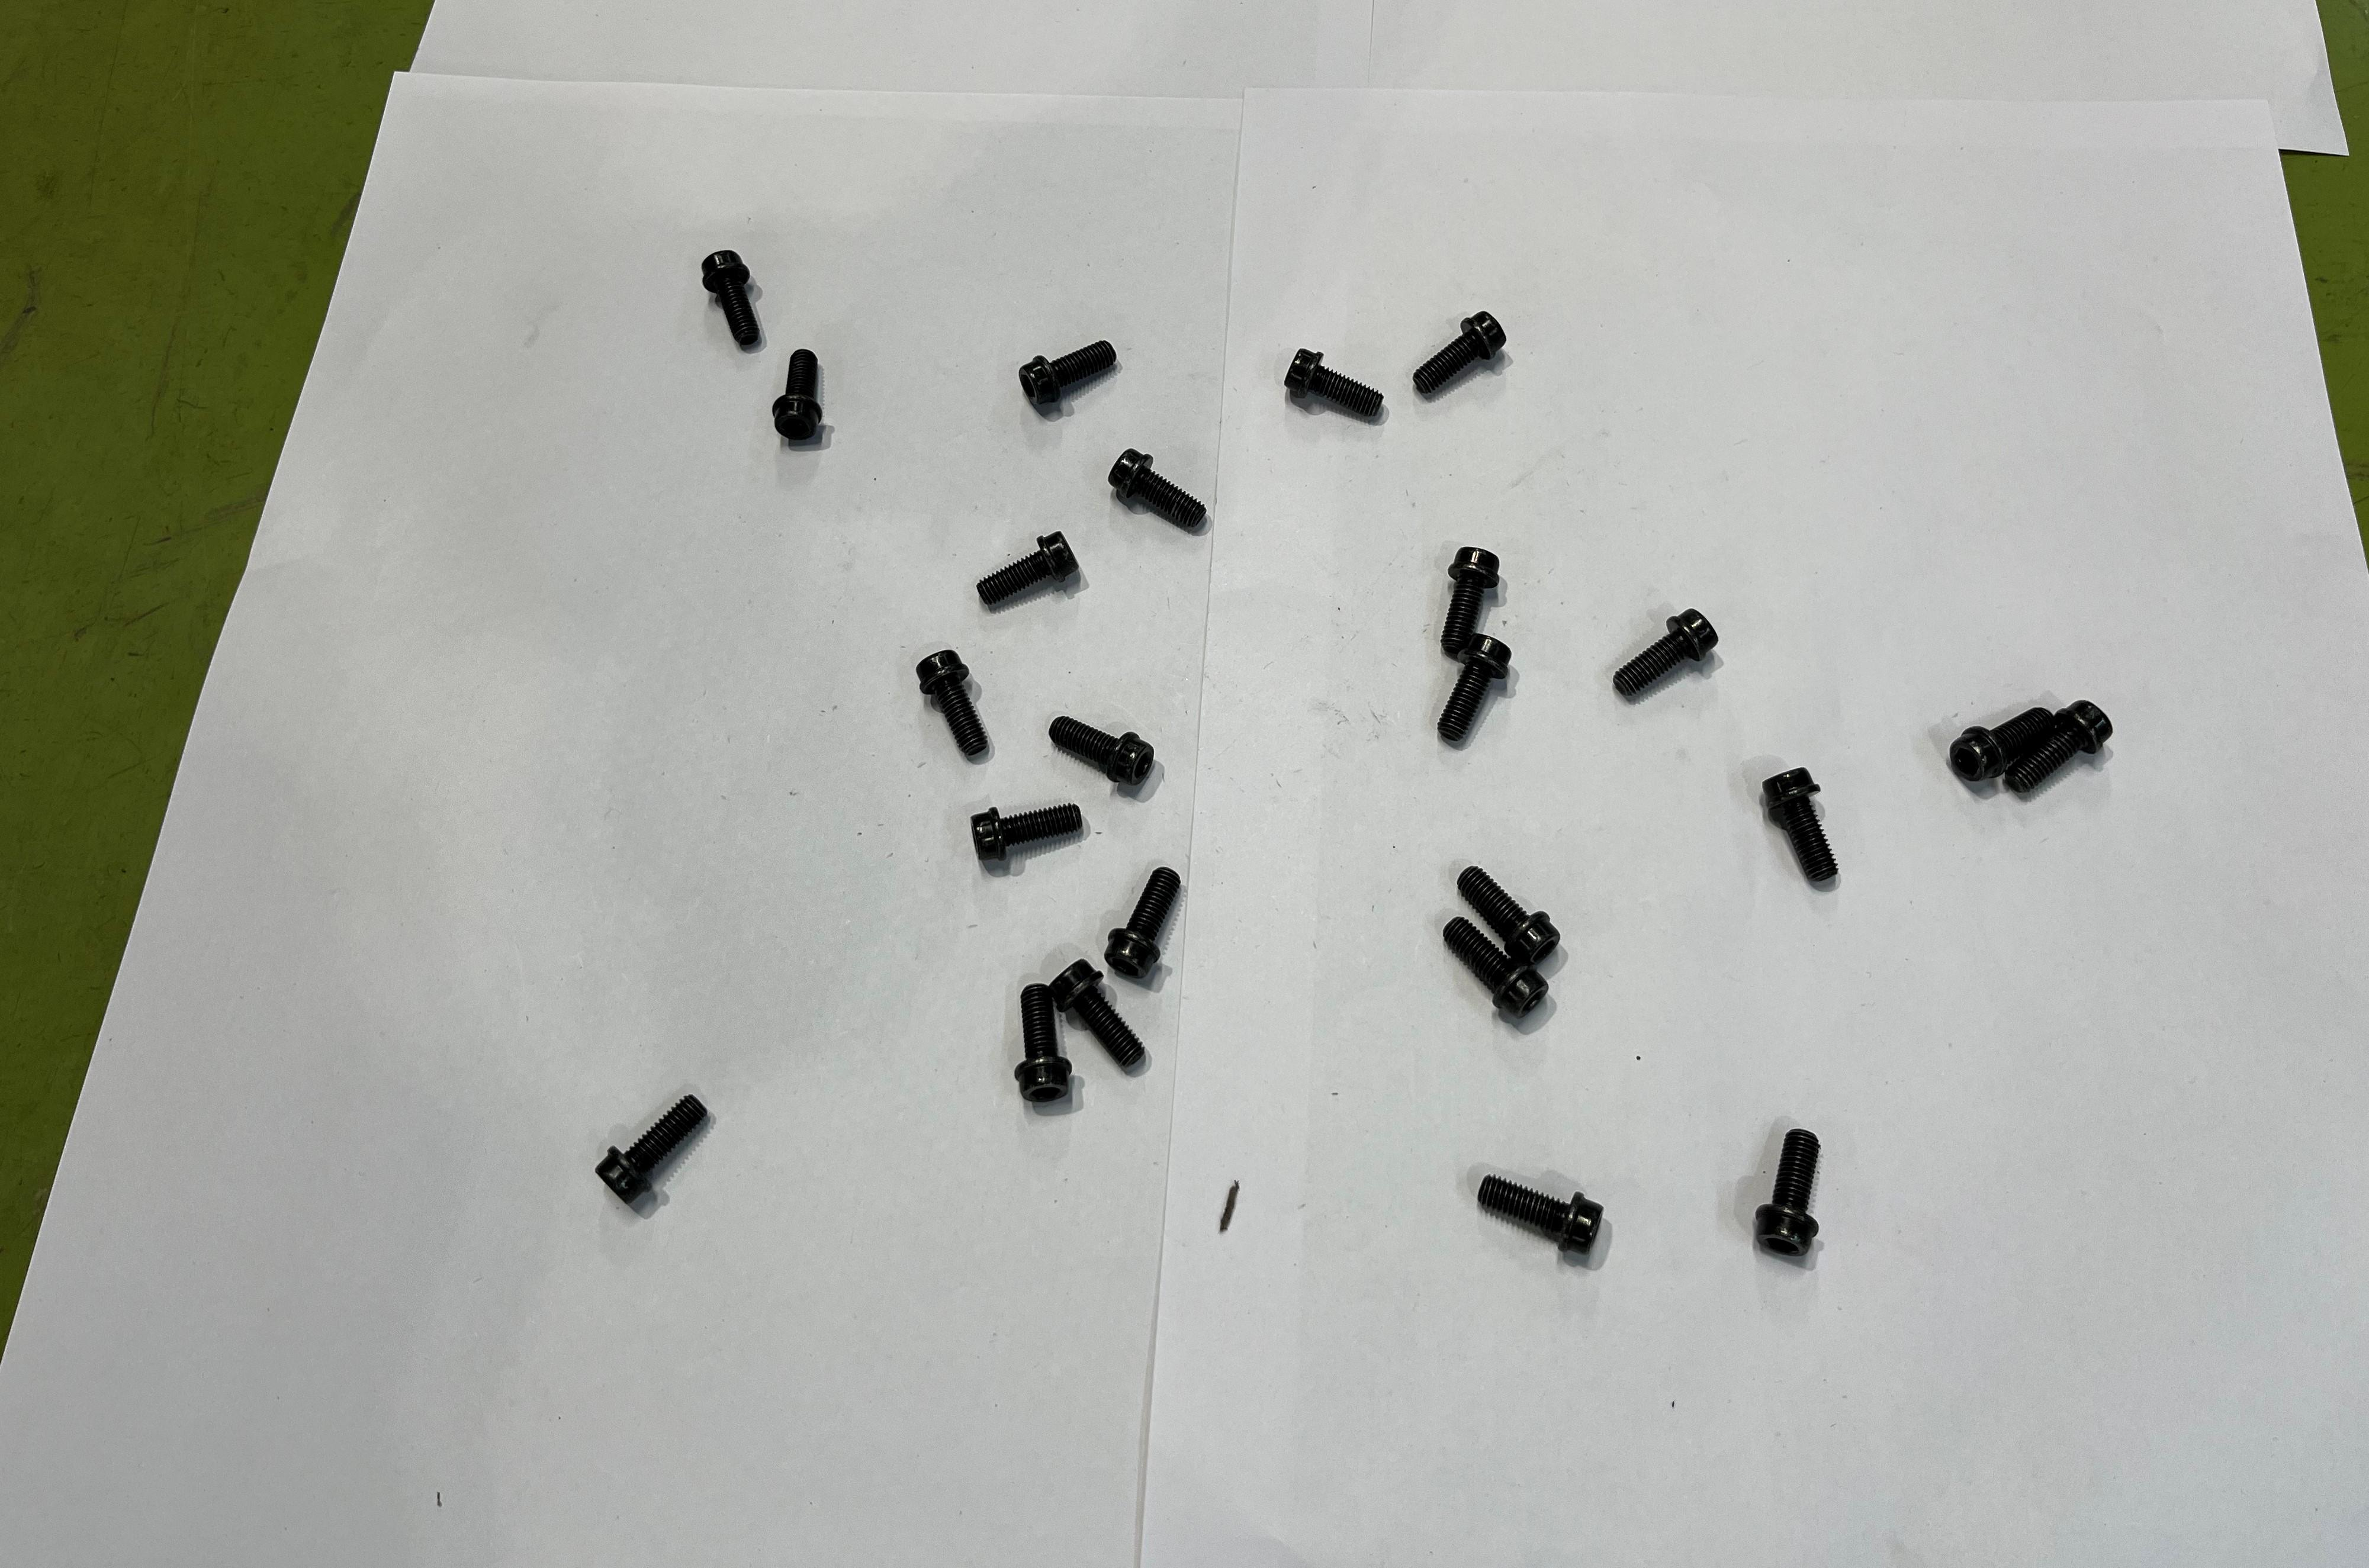Type C: (595, 1095, 709, 1223), (1048, 957, 1146, 1074), (1477, 1169, 1603, 1258), (1442, 917, 1548, 1020), (1456, 863, 1562, 964), (1003, 985, 1094, 1104), (2003, 700, 2114, 796), (1762, 759, 1839, 889), (1613, 609, 1720, 698), (1436, 635, 1513, 751), (1753, 1129, 1821, 1255), (1050, 705, 1153, 787), (1109, 448, 1207, 534), (1108, 866, 1181, 976), (1412, 311, 1508, 395), (1284, 346, 1386, 425), (917, 644, 987, 758), (976, 534, 1081, 607), (1951, 709, 2049, 782), (1017, 339, 1116, 411), (1440, 544, 1499, 654), (973, 803, 1083, 861), (702, 250, 763, 352), (773, 348, 824, 441)
